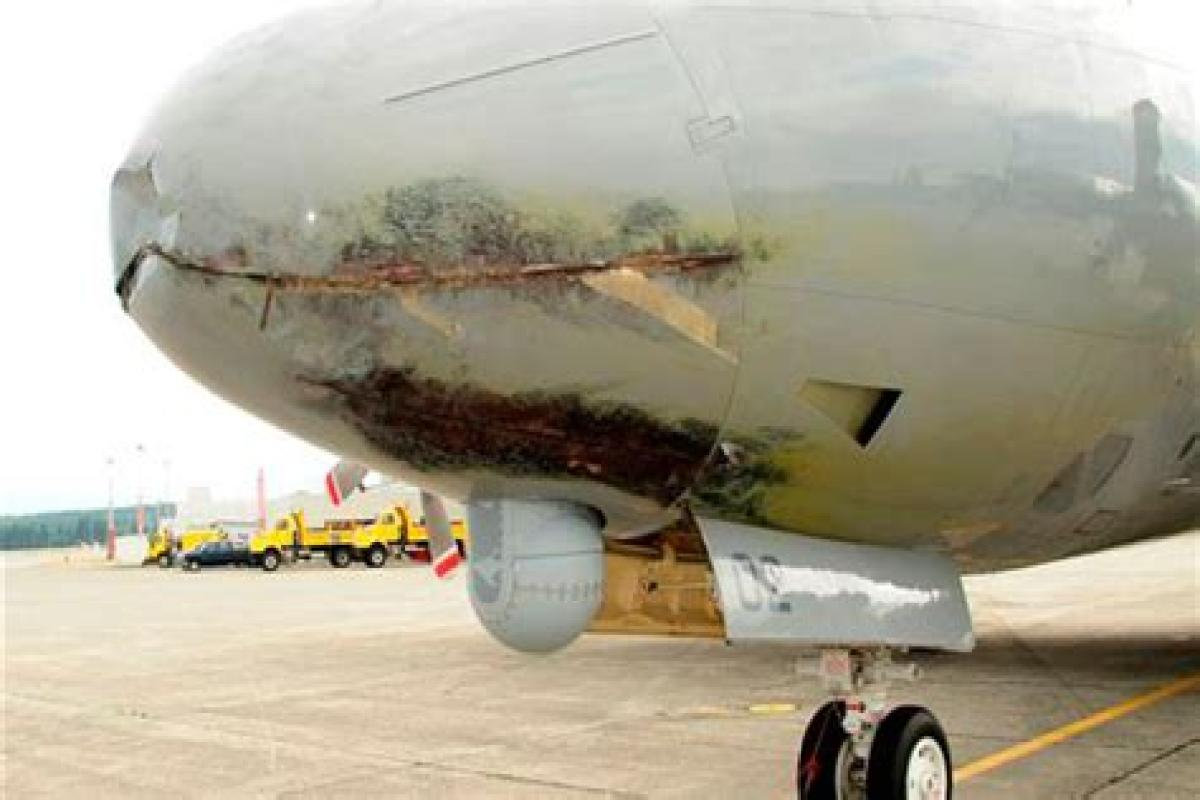Fuselage_damage: (103, 144, 748, 501)
